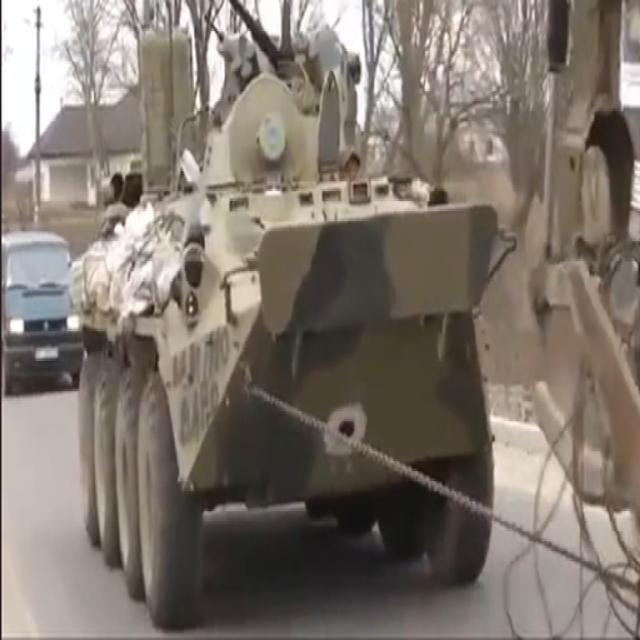APC-IFV: (76, 56, 510, 631)
CAR: (0, 222, 84, 394)
